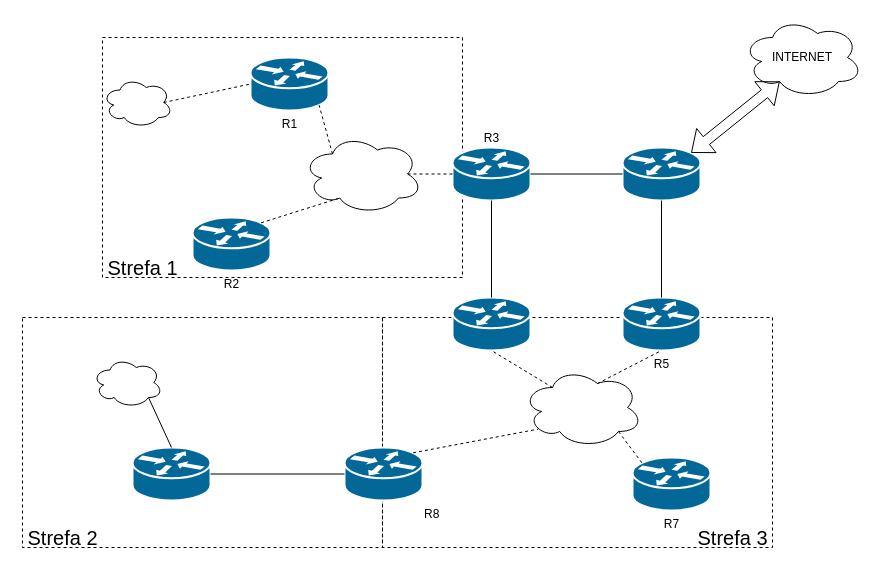
This 880x567 diagram has some shape labels left out. The centre of each missing label's shape, as x and y in pixels:
R4: point (661, 173)
R6: point (491, 323)
R9: point (171, 473)
